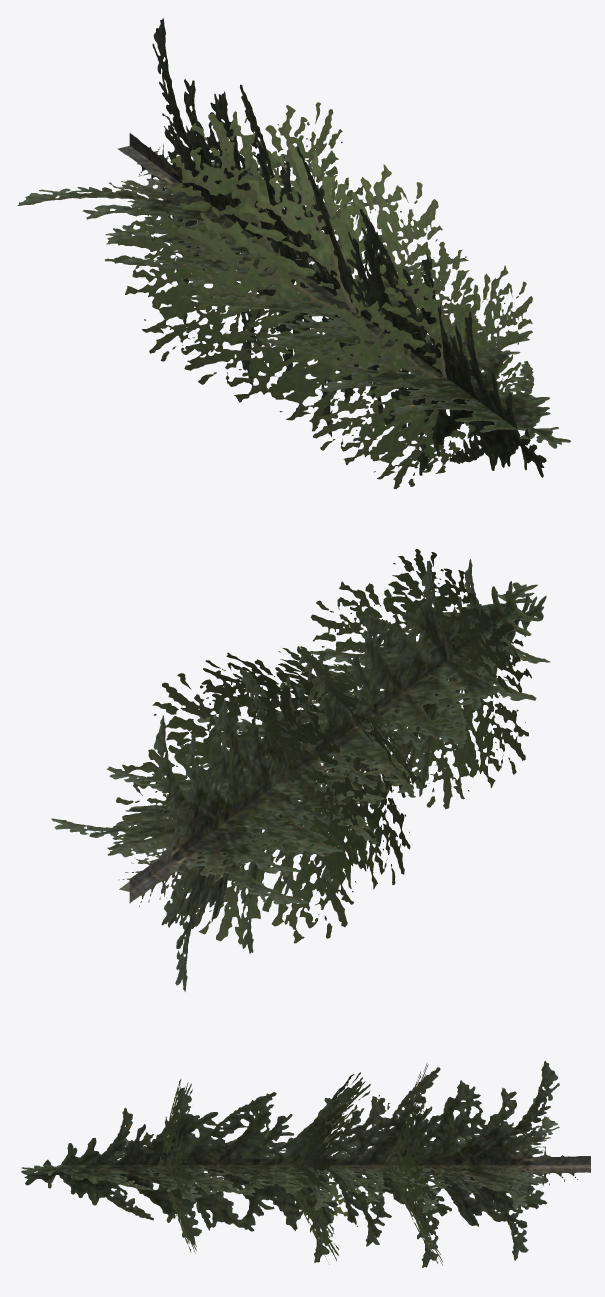
Rendered from tree_background_06.obj.
The picture shows the model from 3 angles, top to bottom: view 1: azimuth 30°, elevation 25°; view 2: azimuth 150°, elevation 25°; view 3: azimuth 270°, elevation 25°; orthographic projection. The views are drawn at different scales.
Visible parts, largest first — view 1: tree_background_06; view 2: tree_background_06; view 3: tree_background_06.
Part boxes in pixels (x1,y1,x2,y2): tree_background_06: (17,18,570,488); tree_background_06: (51,549,550,991); tree_background_06: (21,1060,590,1267).
Size of the model in its own units: 7.43 by 7.44 by 18.22.
1 material, 1 textured.
